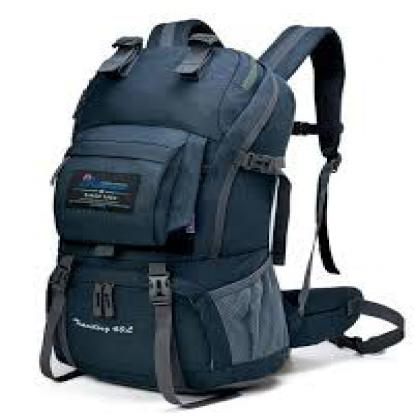morral: (23, 10, 410, 408)
